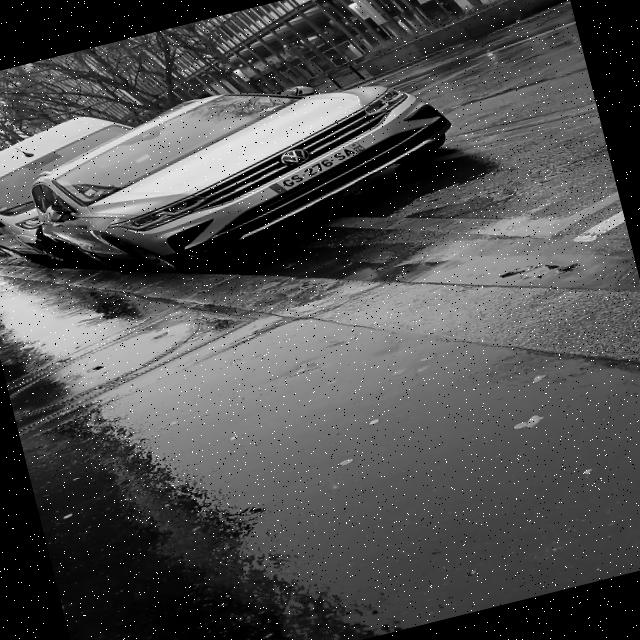EU: (268, 140, 367, 196)
France: (266, 182, 287, 196)
